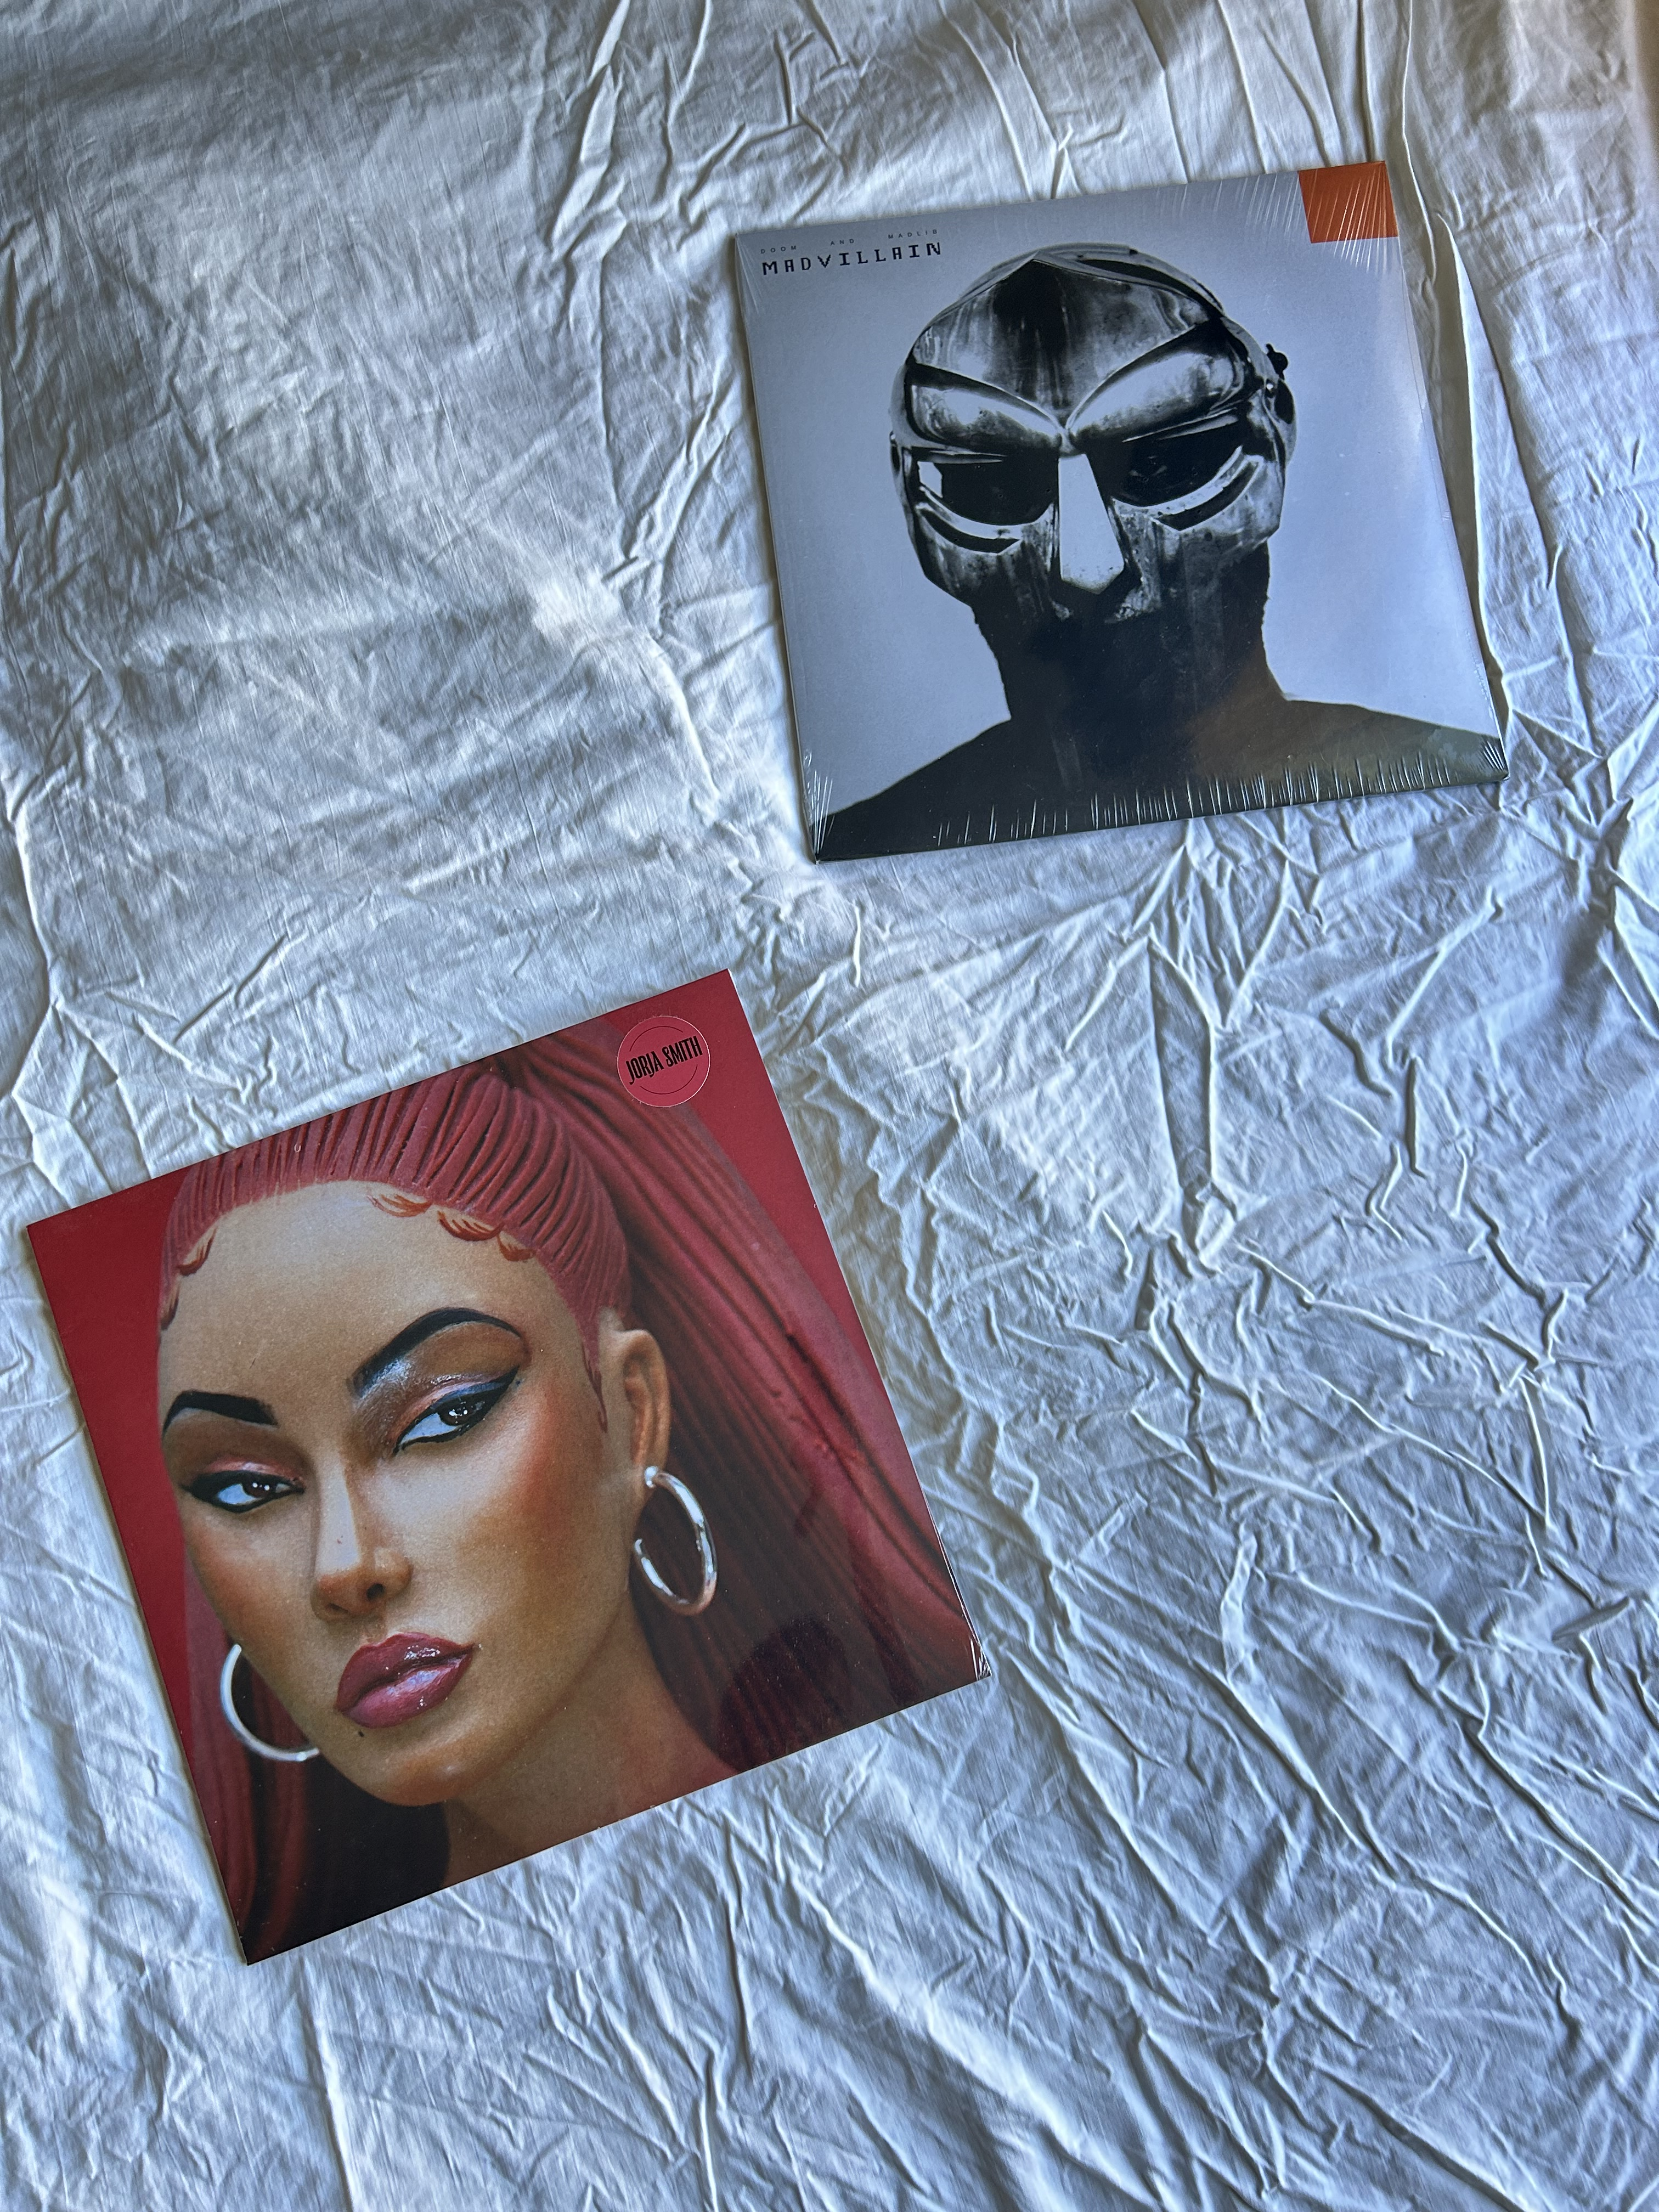jorja smith_be right back: (0, 1214, 796, 1993)
madvillain_madvillainy: (708, 226, 1450, 894)
